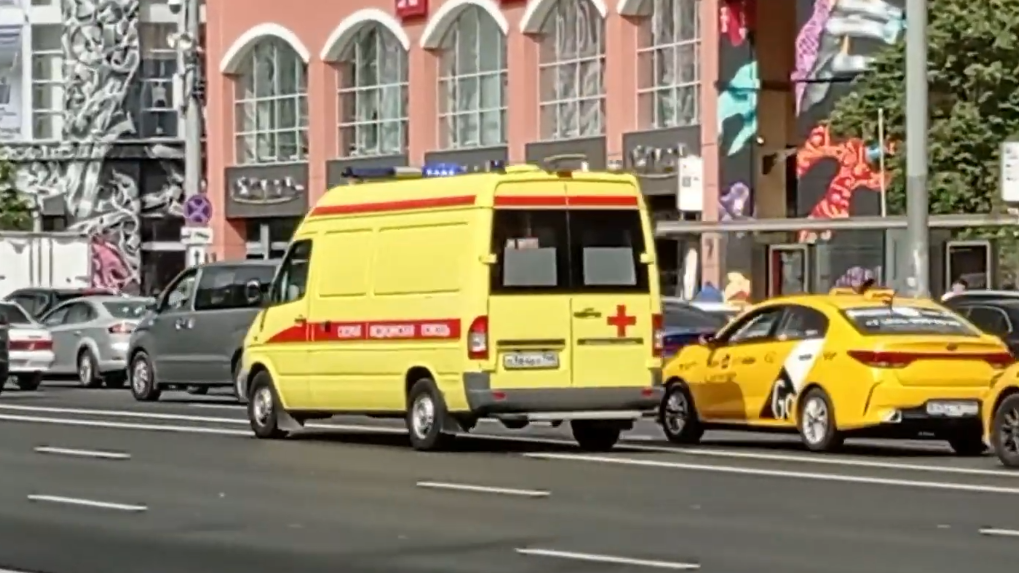intensive care unit: (238, 166, 666, 450)
non emergency car: (664, 284, 1011, 451), (118, 263, 281, 401), (18, 283, 157, 389)
